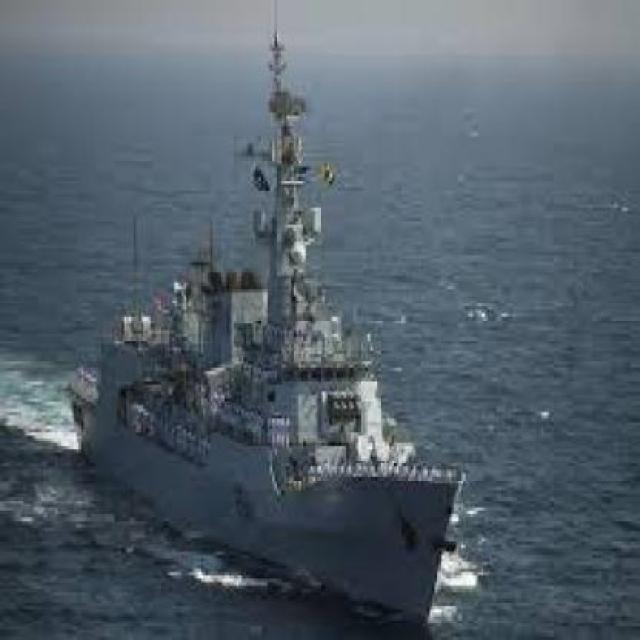warship2: (61, 18, 470, 635)
